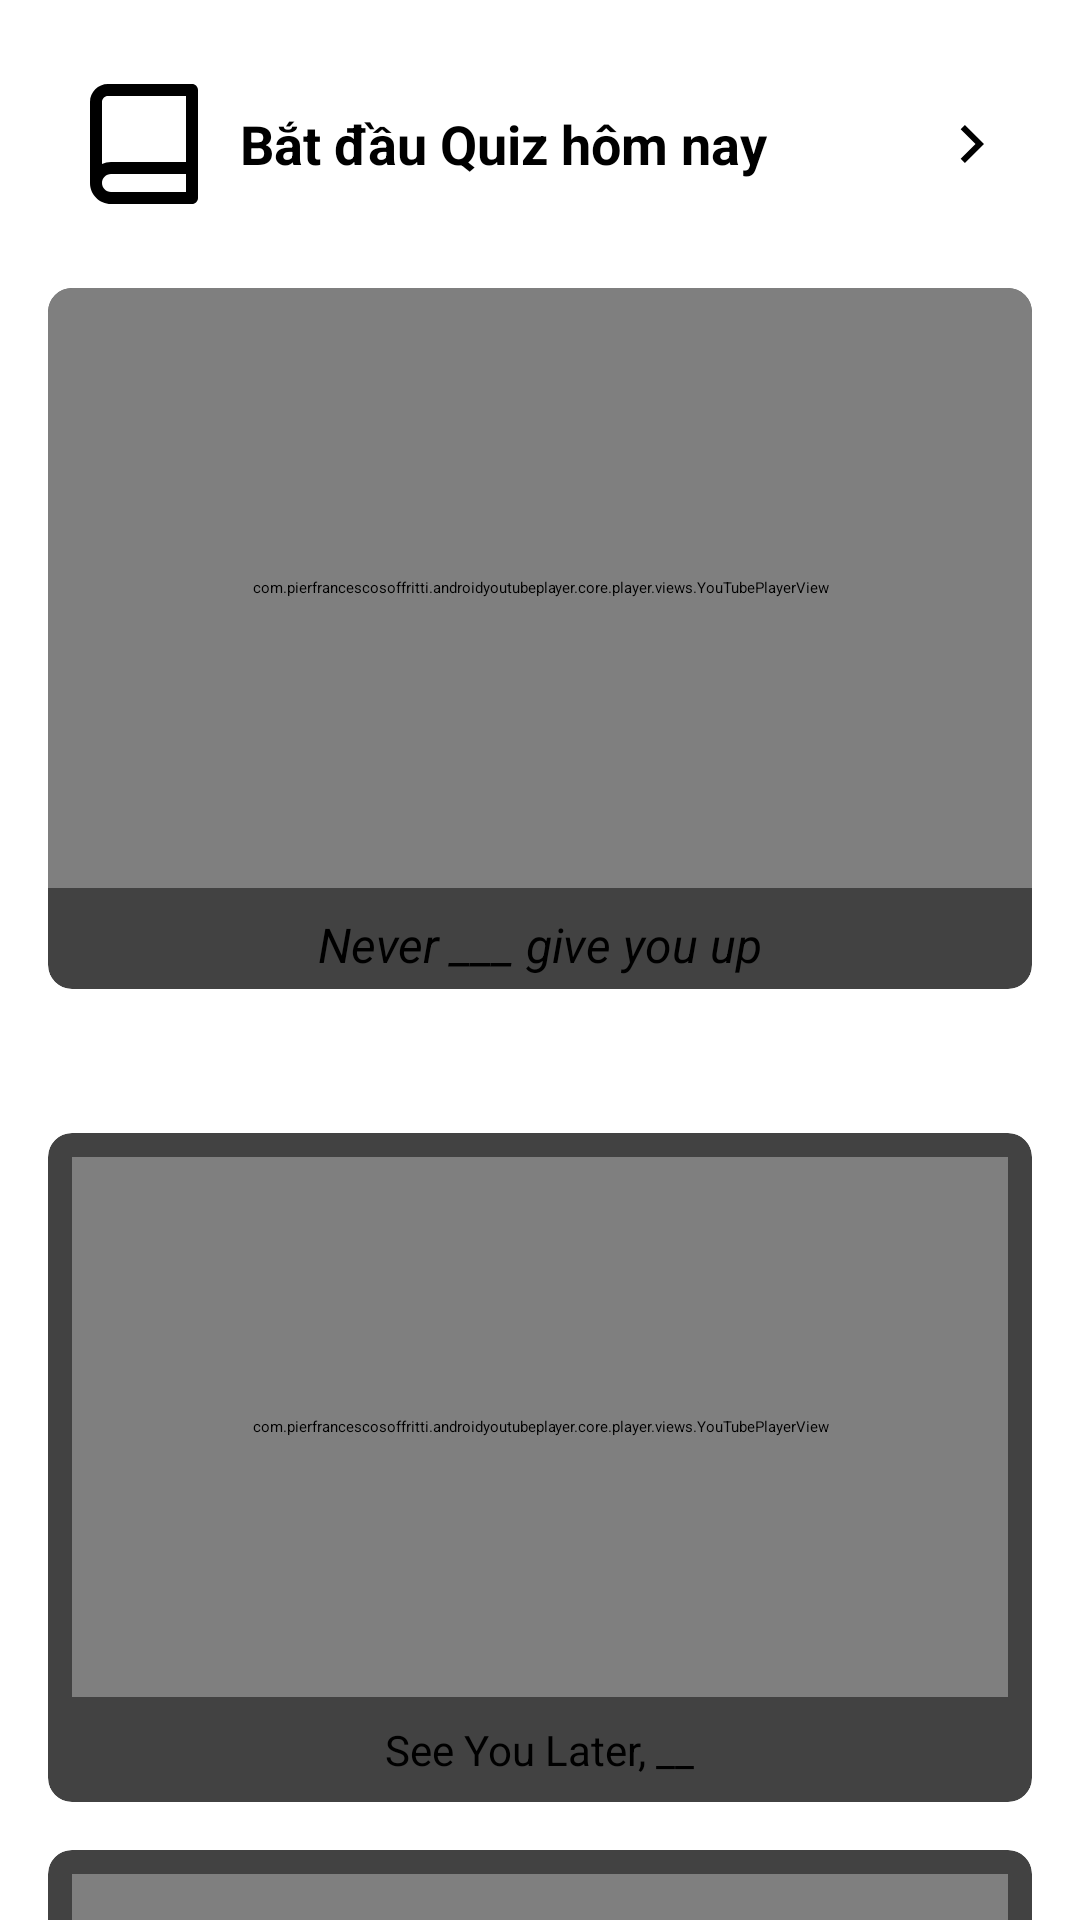

Icons on this 1080 × 1920 Android screen, each with the point to tap as point (x, y):
Arrow Right: point (972, 144)
